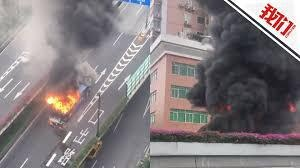fire: (45, 90, 78, 113)
